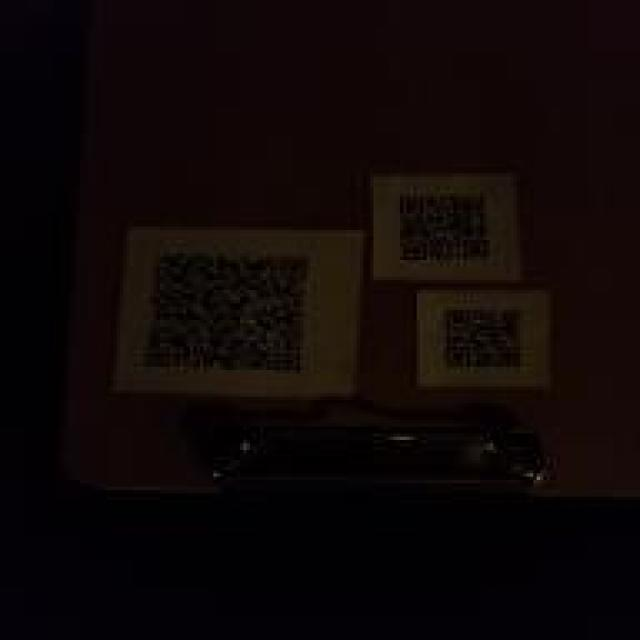QR_CODE: (134, 236, 324, 386), (390, 188, 502, 270), (427, 300, 530, 377)
